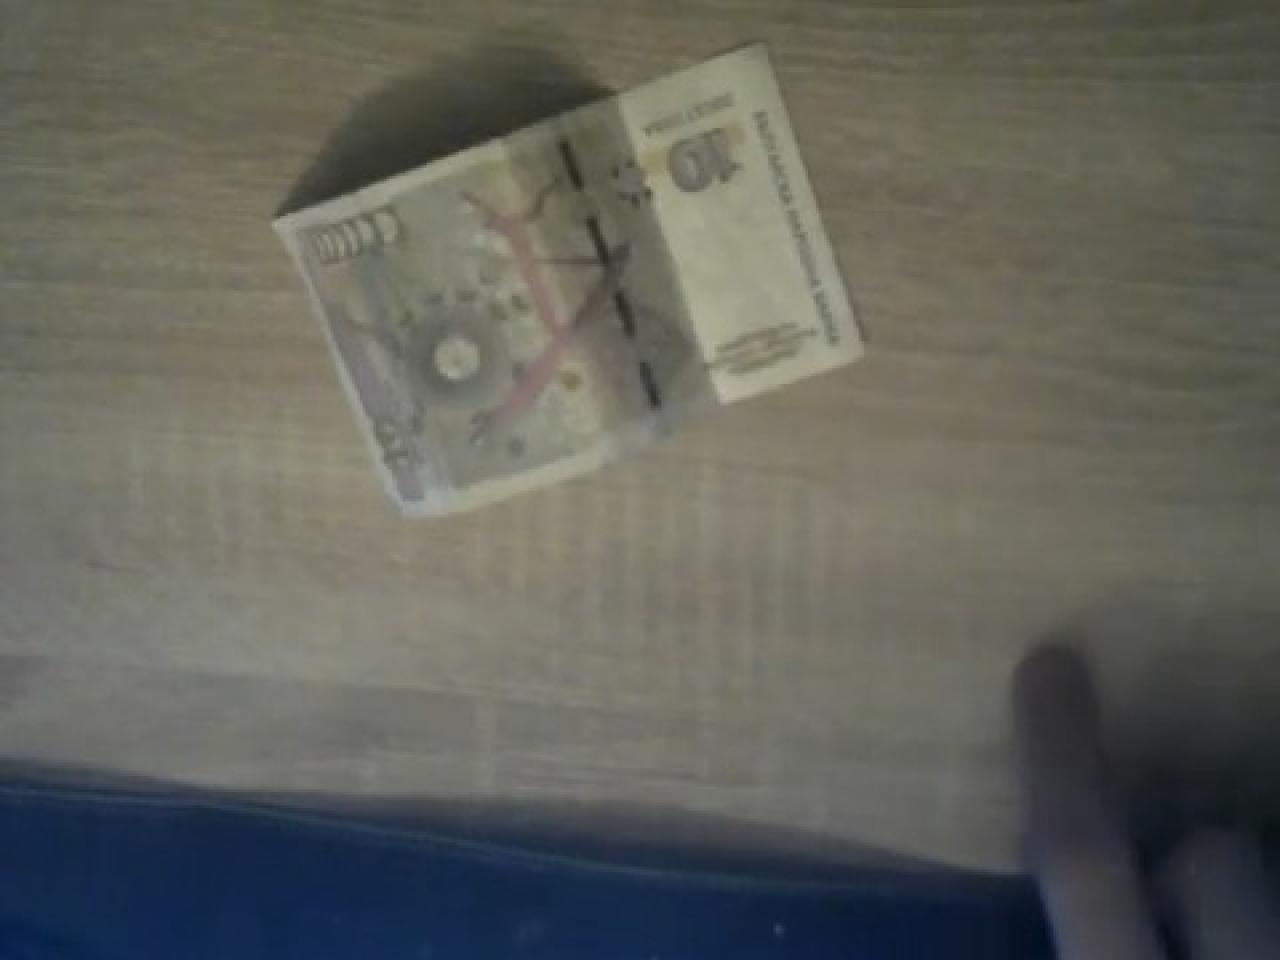10leva: (272, 40, 867, 517)
